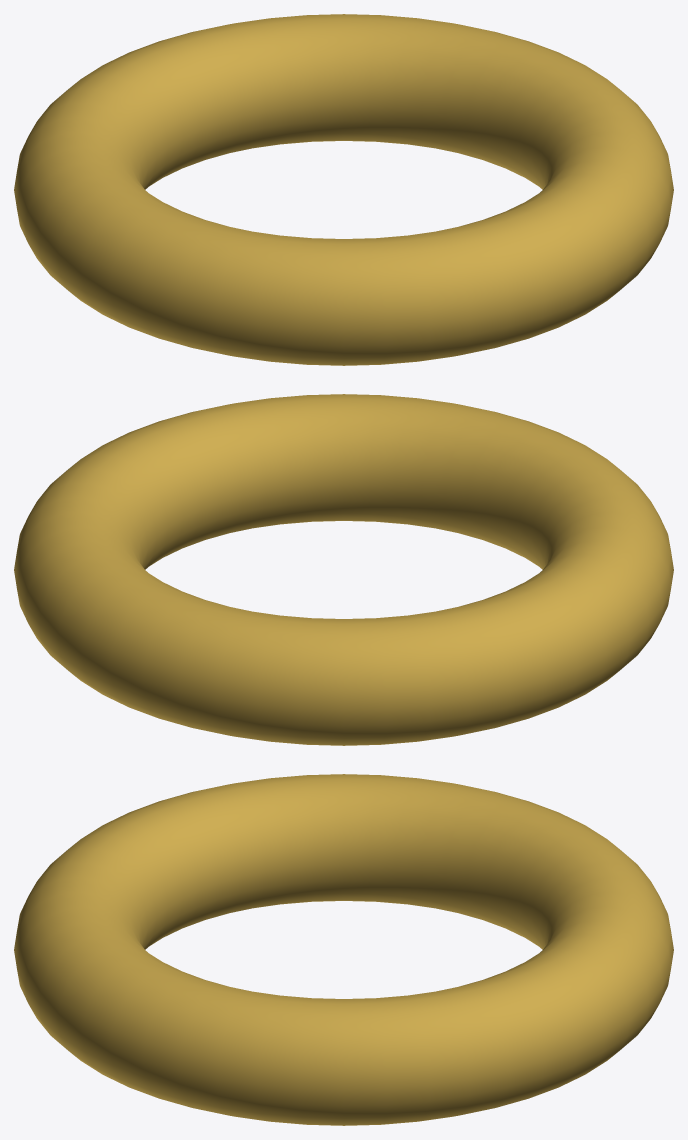
File: topper.glb
3 renders of one model, top to bottom at view 1: azimuth 30°, elevation 25°; view 2: azimuth 150°, elevation 25°; view 3: azimuth 270°, elevation 25°, orthographic.
Bounding box in the file's own units: 1.24 × 0.24 × 1.24.
